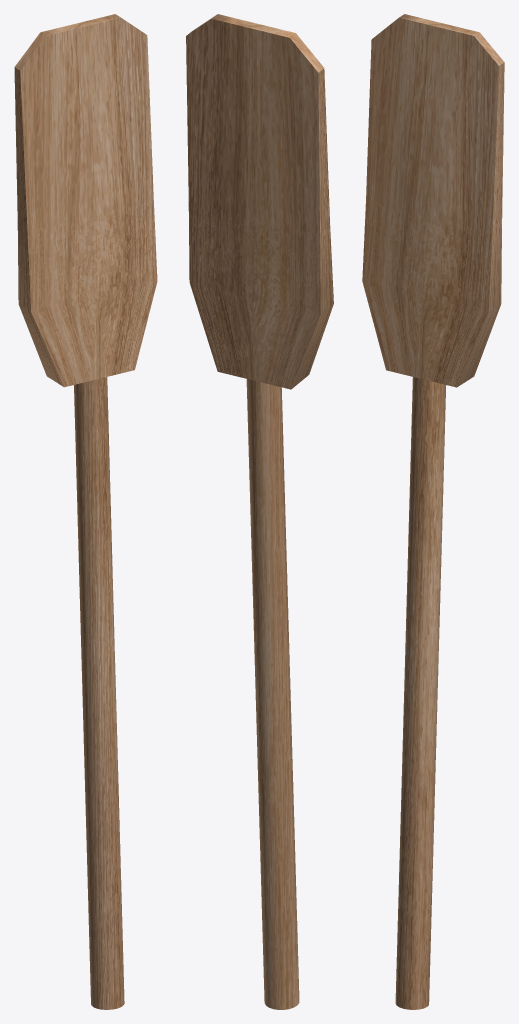
File: Palat.obj
The picture shows the model from 3 angles, left to right: view 1: azimuth 30°, elevation 25°; view 2: azimuth 150°, elevation 25°; view 3: azimuth 330°, elevation 25°; orthographic projection. The views are drawn at different scales.
Visible parts, largest first — view 1: Palat; view 2: Palat; view 3: Palat.
Part boxes in pixels (x1,y1,x2,y2): Palat: (14,14,157,1009); Palat: (186,14,333,1009); Palat: (362,14,504,1009).
Bounding box in the file's own units: 1.41 × 10.17 × 0.7358.
Materials: 1 (1 with a texture image).
